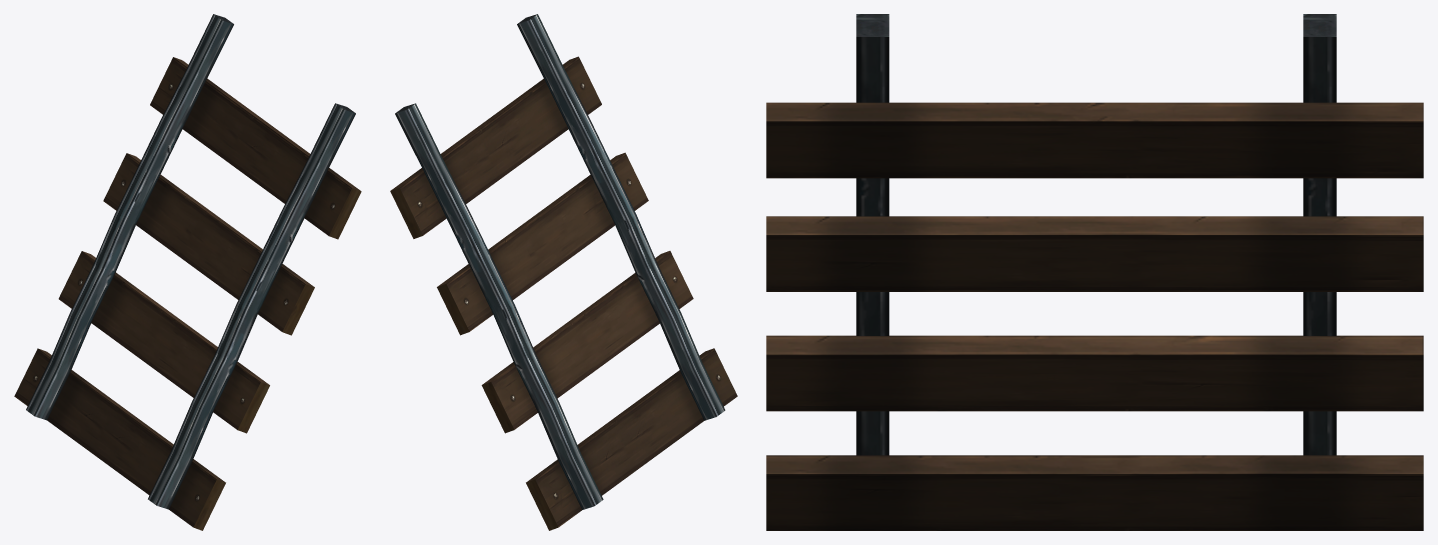
Rendered from rail9.FBX.
3 views of the same model, side by side, from view 1: azimuth 30°, elevation 25°; view 2: azimuth 150°, elevation 25°; view 3: azimuth 270°, elevation 25° (orthographic). The views are drawn at different scales.
Visible parts, largest first — view 1: rail9; view 2: rail9; view 3: rail9.
Boxes of the visible parts, x1,y1,x2,y2 form: rail9: [14, 14, 361, 530]; rail9: [390, 14, 737, 530]; rail9: [766, 14, 1423, 530].
Size of the model in its own units: 76.7 by 133 by 119.
